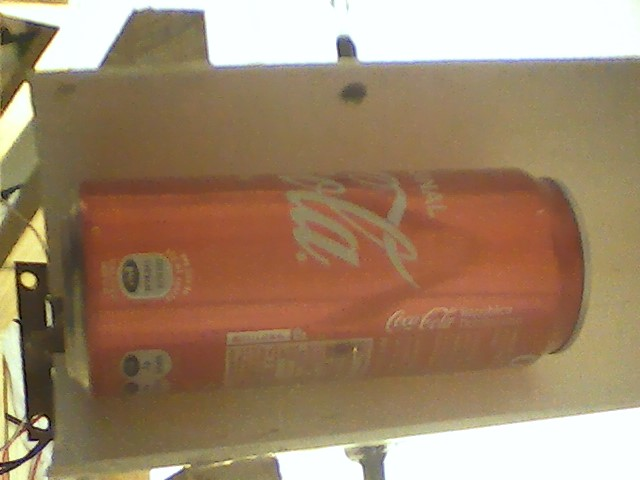lata: (59, 167, 596, 405)
